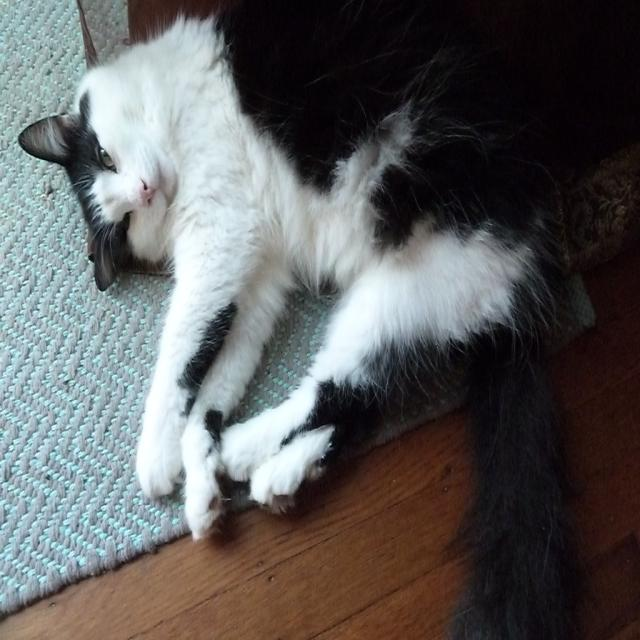Cat: (17, 0, 587, 639)
